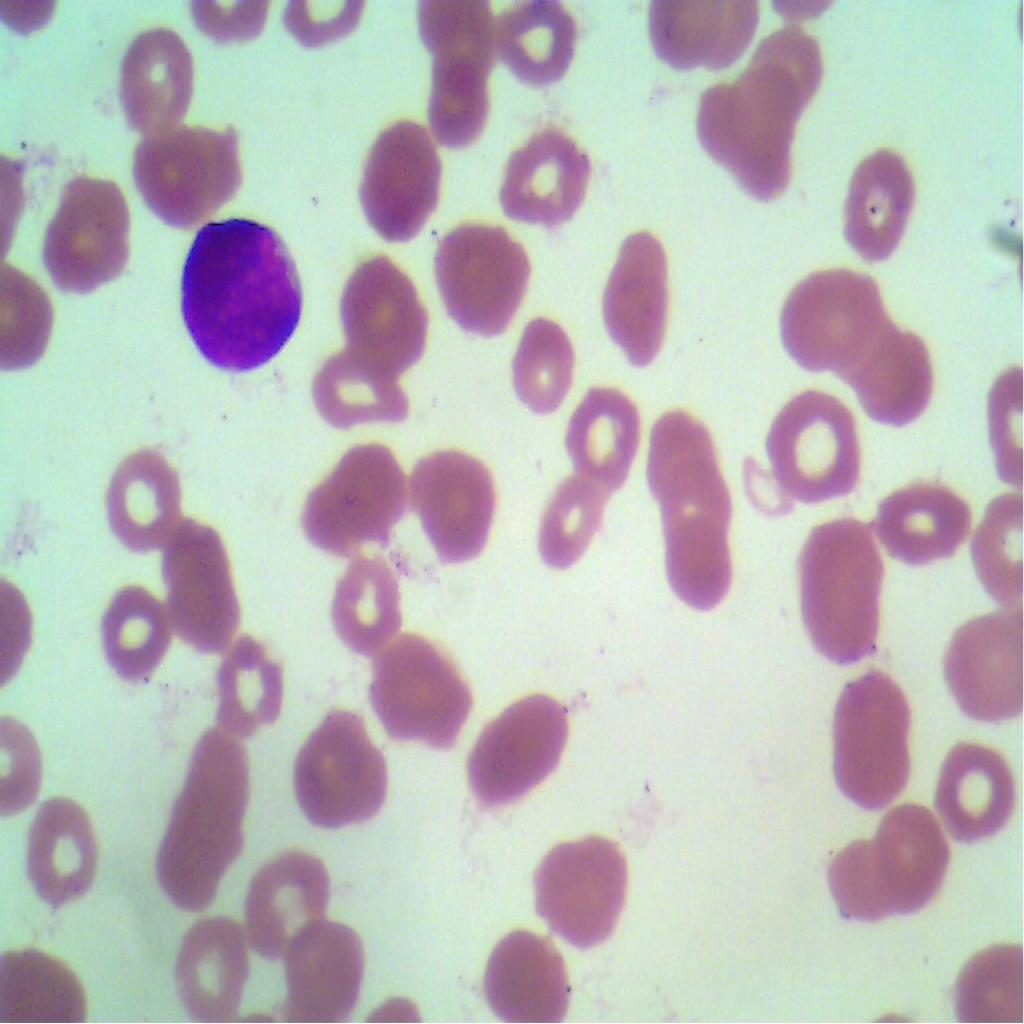Eritrosit: (786, 515, 902, 666), (116, 108, 250, 231), (360, 624, 478, 755), (460, 682, 574, 817), (822, 663, 922, 812), (290, 702, 392, 845), (35, 165, 138, 299), (435, 218, 538, 346), (773, 255, 883, 374), (352, 114, 442, 254), (848, 312, 945, 440), (302, 440, 412, 550), (417, 438, 499, 584), (838, 136, 922, 278), (768, 384, 862, 509), (537, 828, 630, 954), (330, 255, 432, 368), (702, 70, 790, 196), (933, 601, 1023, 724), (933, 724, 1022, 848), (738, 14, 824, 137), (162, 518, 238, 657), (238, 844, 330, 958), (877, 472, 973, 578), (155, 799, 245, 912), (498, 121, 592, 228), (168, 901, 250, 1023), (479, 924, 580, 1023), (168, 724, 250, 841), (602, 225, 668, 370), (116, 20, 198, 136), (307, 344, 413, 431), (104, 438, 186, 550), (565, 372, 642, 491), (286, 908, 362, 1023), (872, 806, 950, 916), (328, 550, 408, 657), (530, 468, 610, 574), (28, 795, 110, 898), (418, 44, 492, 158), (95, 581, 170, 688), (492, 0, 590, 81), (660, 522, 739, 620), (219, 633, 295, 734), (638, 399, 708, 504), (826, 832, 904, 925), (507, 314, 577, 417), (413, 0, 493, 79), (657, 461, 733, 535)
Limfoblast: (175, 218, 308, 378)
